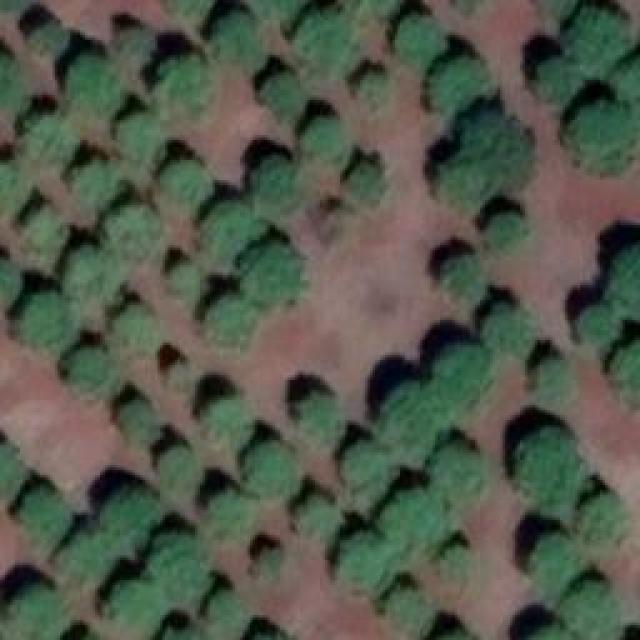Tree: (433, 110, 535, 211), (520, 428, 580, 513), (385, 383, 448, 458), (378, 490, 448, 545), (575, 100, 633, 165), (100, 483, 160, 543), (435, 345, 493, 405), (335, 530, 395, 588), (568, 8, 623, 68), (65, 52, 120, 110), (560, 583, 618, 638), (298, 10, 351, 70), (18, 487, 71, 545), (340, 440, 398, 493), (245, 242, 295, 300), (8, 585, 61, 638), (155, 538, 208, 591), (248, 440, 298, 495), (208, 200, 258, 253), (533, 532, 578, 590), (430, 445, 483, 493), (577, 493, 625, 546), (162, 55, 210, 105), (23, 113, 76, 156), (433, 58, 483, 103), (488, 305, 533, 355), (212, 13, 260, 58), (65, 245, 115, 288), (213, 490, 256, 540), (388, 588, 431, 638), (610, 245, 640, 315), (20, 293, 65, 338), (63, 530, 108, 575), (263, 70, 303, 120), (105, 205, 155, 245), (207, 298, 255, 338), (400, 15, 443, 58), (305, 118, 345, 161), (113, 583, 156, 623), (120, 110, 158, 153), (302, 493, 340, 536), (540, 55, 580, 95), (580, 305, 620, 345), (73, 163, 116, 198), (258, 155, 293, 198), (617, 55, 640, 120), (68, 350, 113, 383), (160, 445, 198, 483), (448, 253, 481, 296), (165, 160, 205, 195), (210, 590, 245, 630), (538, 358, 571, 398), (620, 345, 640, 408), (28, 205, 61, 243), (28, 20, 68, 50), (488, 213, 528, 243), (0, 52, 22, 105), (115, 305, 153, 335), (123, 400, 153, 438), (0, 160, 25, 203), (353, 163, 383, 198), (0, 442, 20, 490), (305, 393, 333, 426), (440, 548, 470, 578), (205, 398, 238, 423), (260, 548, 283, 583), (0, 258, 20, 298), (160, 622, 203, 640), (365, 70, 388, 98), (178, 265, 201, 290), (123, 25, 148, 45)
